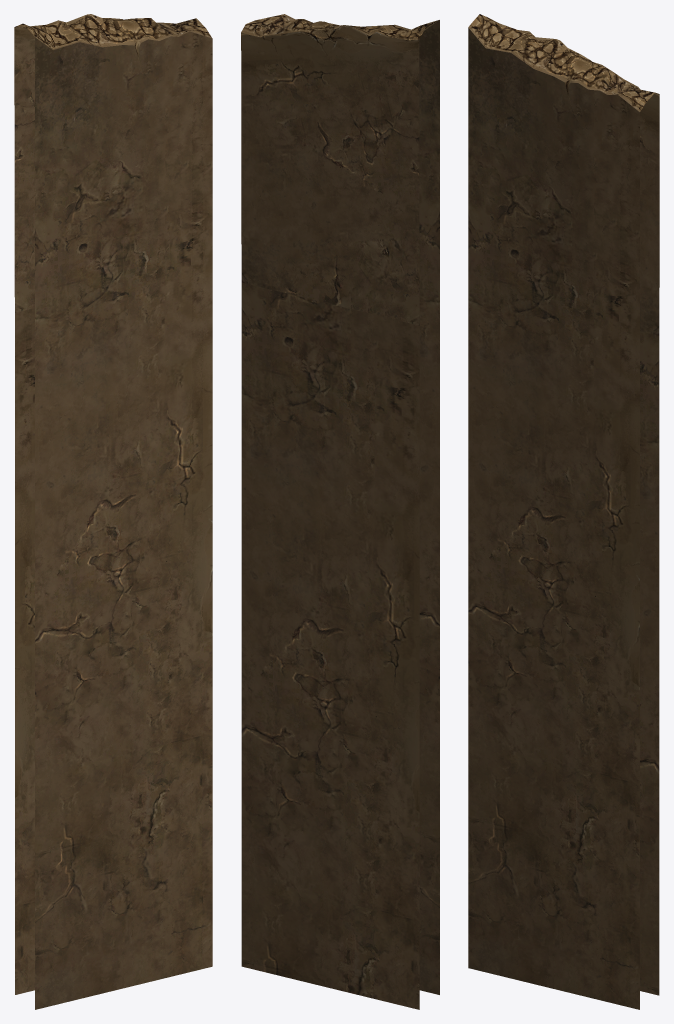
Rendered from A_qiang001.fbx.
3 views of the same model, side by side, from view 1: azimuth 30°, elevation 25°; view 2: azimuth 150°, elevation 25°; view 3: azimuth 330°, elevation 25° (orthographic). The views are drawn at different scales.
Visible parts, largest first — view 1: A_qiang001; view 2: A_qiang001; view 3: A_qiang001.
Boxes of the visible parts, <box> form: A_qiang001: <box>14,14,212,1009</box>; A_qiang001: <box>241,14,439,1009</box>; A_qiang001: <box>468,14,659,1009</box>.
Size of the model in its own units: 330 by 1736 by 67.59.
